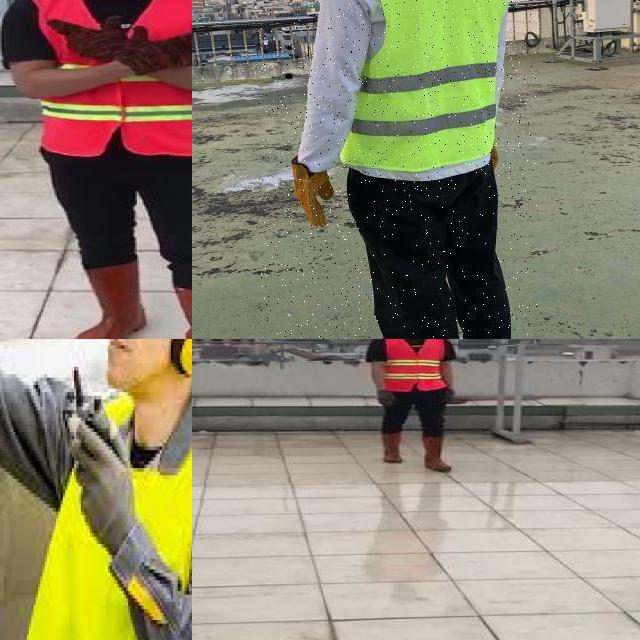boots: (74, 262, 149, 339), (421, 436, 456, 473), (378, 431, 405, 460)
hand_glove: (68, 411, 134, 546), (50, 16, 133, 60), (131, 27, 192, 73), (372, 391, 398, 407), (438, 389, 462, 406)
person: (259, 0, 538, 339), (0, 0, 192, 339), (0, 339, 192, 640), (366, 339, 460, 476)
vest: (47, 373, 192, 640), (342, 0, 508, 171), (26, 0, 192, 158), (378, 339, 447, 392)
